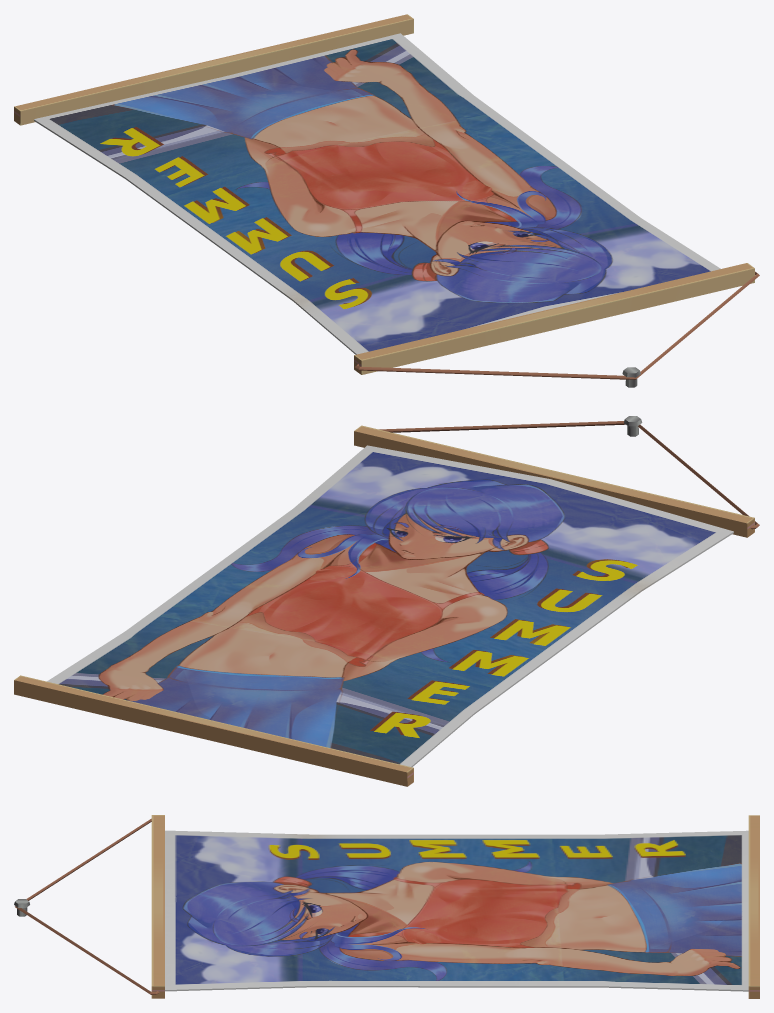
Rendered from poster_mita.glb.
The picture shows the model from 3 angles, top to bottom: view 1: azimuth 30°, elevation 25°; view 2: azimuth 150°, elevation 25°; view 3: azimuth 270°, elevation 25°; orthographic projection. The views are drawn at different scales.
Parts seen in each view (by area): view 1: obj299_0; view 2: obj299_0; view 3: obj299_0.
Boxes of the visible parts, bbox=[...] form: obj299_0: bbox=[14, 14, 759, 387]; obj299_0: bbox=[14, 416, 759, 786]; obj299_0: bbox=[14, 815, 759, 998].
Bounding box in the file's own units: 0.000388 × 1.71e-05 × 0.000712.
Materials: 1 (1 with a texture image).
